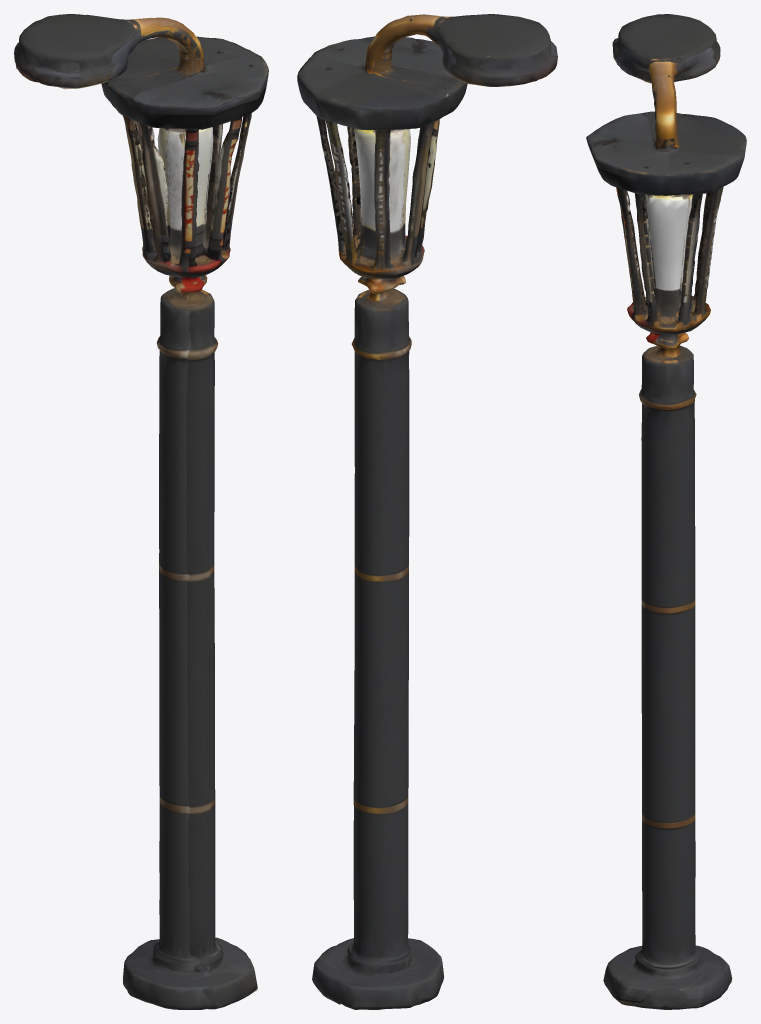
File: street_lamp.glb
The picture shows the model from 3 angles, left to right: view 1: azimuth 30°, elevation 25°; view 2: azimuth 150°, elevation 25°; view 3: azimuth 270°, elevation 25°; orthographic projection. The views are drawn at different scales.
Size of the model in its own units: 0.5105 by 2.01 by 0.3256.
1 material, 1 textured.
